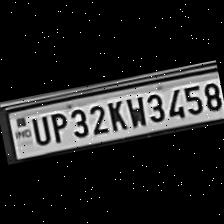2: (84, 100, 110, 136)
3: (141, 88, 166, 124), (65, 103, 90, 138)
4: (160, 84, 186, 120)
5: (179, 80, 205, 116)
8: (198, 78, 223, 112)
K: (103, 95, 128, 132)
P: (45, 107, 70, 144)
U: (26, 111, 52, 146)
W: (122, 92, 146, 128)
